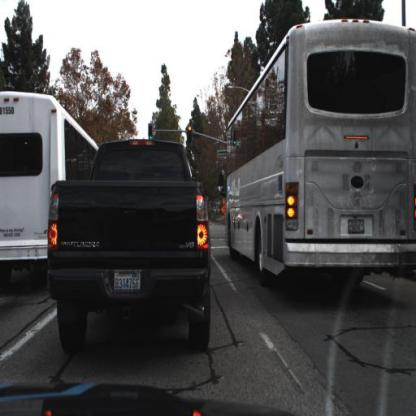car: (43, 141, 210, 352)
trafficLight: (187, 126, 194, 143), (149, 123, 154, 141)
trafficLight-Red: (187, 124, 194, 143)
truck: (224, 20, 416, 293), (1, 91, 93, 291)
